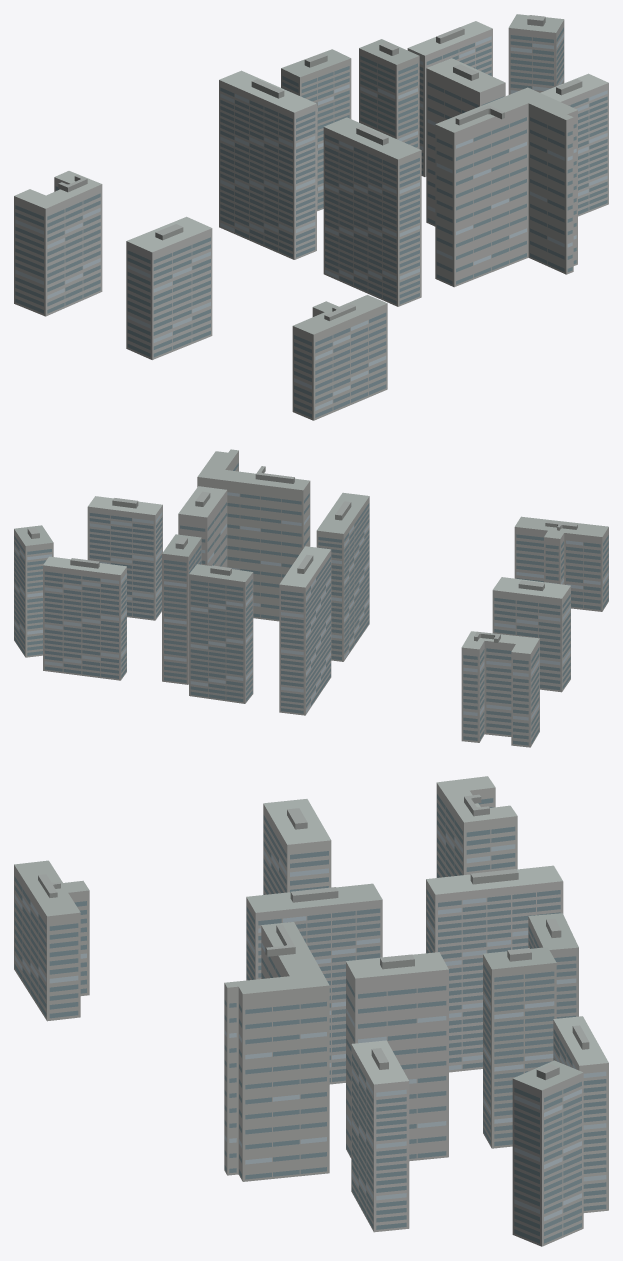
The model's file is apt-a13920209.glb.
3 renders of one model, top to bottom at view 1: azimuth 30°, elevation 25°; view 2: azimuth 150°, elevation 25°; view 3: azimuth 270°, elevation 25°, orthographic. The views are drawn at different scales.
Visible parts, largest first — view 1: apt-a13920209; view 2: apt-a13920209; view 3: apt-a13920209.
Part boxes in pixels (left/top/right/bottom): apt-a13920209: left=14, top=14, right=608, bottom=420; apt-a13920209: left=14, top=449, right=608, bottom=747; apt-a13920209: left=14, top=776, right=608, bottom=1246.
Size of the model in its own units: 254 by 68 by 188.
